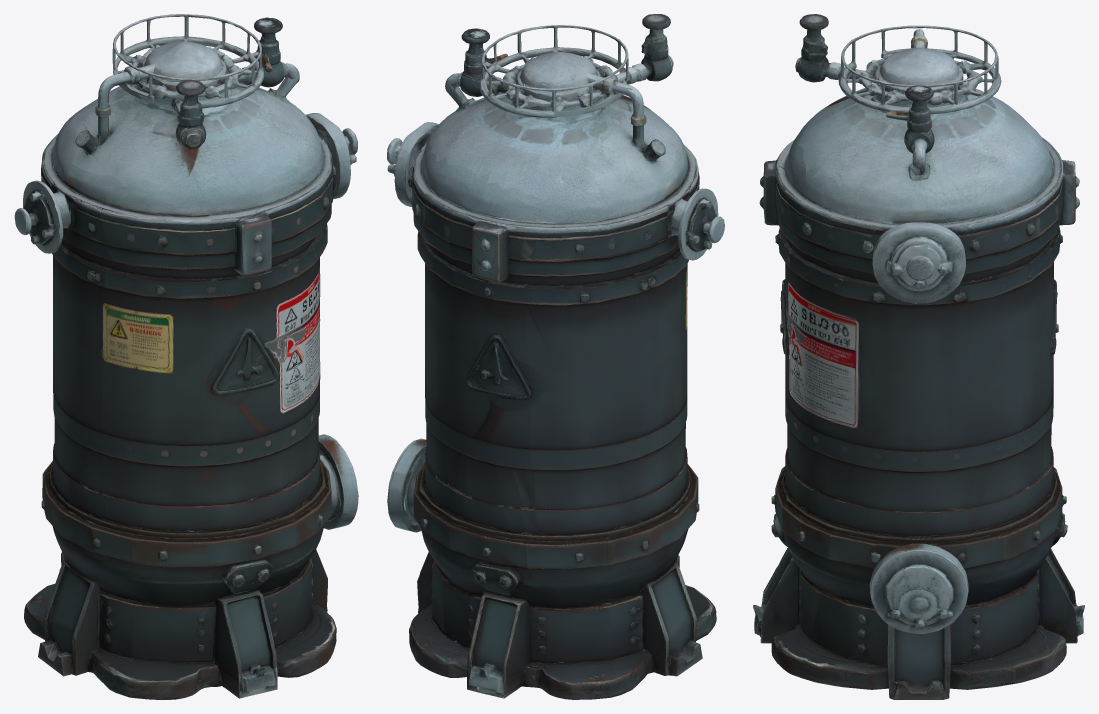
File: prop_coolant_tank.glb
3 views of the same model, side by side, from view 1: azimuth 30°, elevation 25°; view 2: azimuth 150°, elevation 25°; view 3: azimuth 270°, elevation 25° (orthographic).
Size of the model in its own units: 1.1 by 1.9 by 0.959.
1 material, 1 textured.
